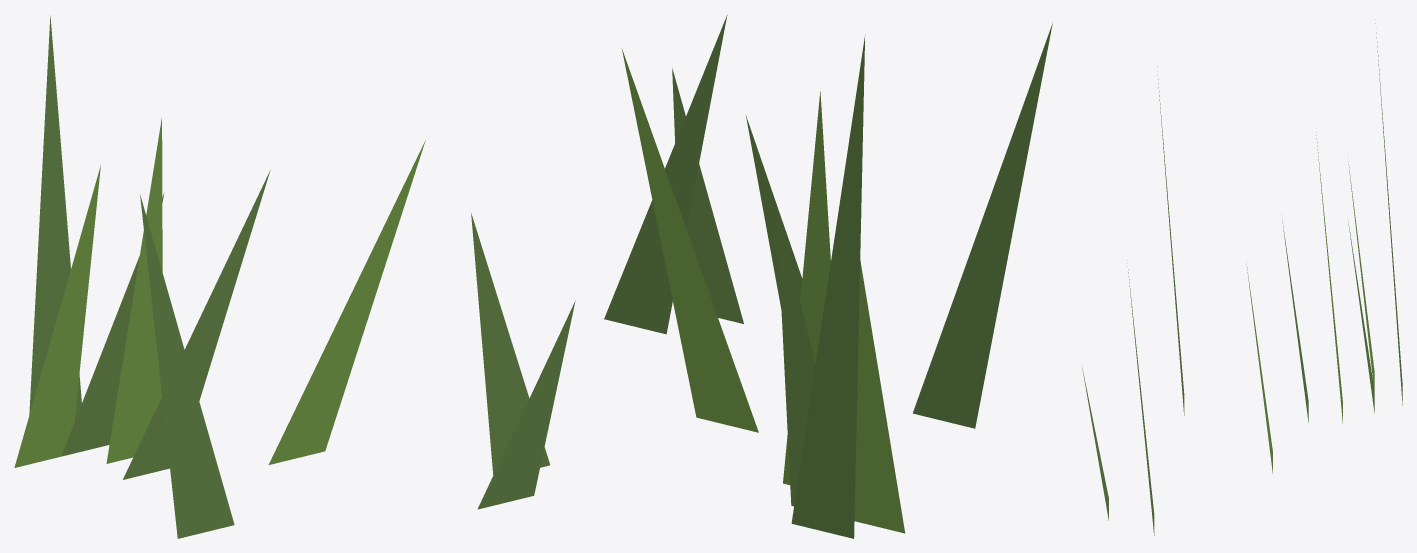
The model's file is grass_field_lod0.obj.
The picture shows the model from 3 angles, left to right: view 1: azimuth 30°, elevation 25°; view 2: azimuth 150°, elevation 25°; view 3: azimuth 270°, elevation 25°; orthographic projection. The views are drawn at different scales.
Parts seen in each view (by area): view 1: grass_field_lod0; view 2: grass_field_lod0; view 3: grass_field_lod0.
Boxes of the visible parts, left/top/right/bottom form: grass_field_lod0: left=14, top=15, right=575, bottom=538; grass_field_lod0: left=604, top=15, right=1052, bottom=538; grass_field_lod0: left=1082, top=23, right=1402, bottom=535.
Size of the model in its own units: 0.5756 by 0.5983 by 0.4662.
Materials: 1 (1 with a texture image).
